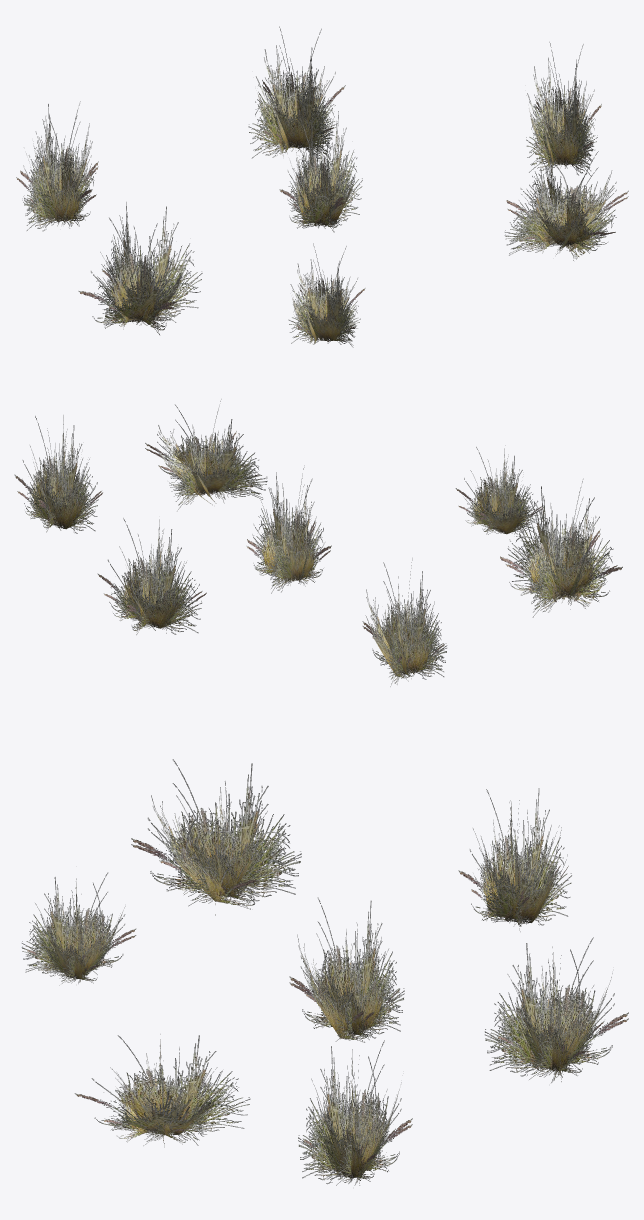
Rendered from ADDON_CANYONPLANT_BUSHES_03_168P.glb.
3 views of the same model, one above another, from view 1: azimuth 30°, elevation 25°; view 2: azimuth 150°, elevation 25°; view 3: azimuth 270°, elevation 25° (orthographic). The views are drawn at different scales.
Visible parts, largest first — view 1: Mesh; view 2: Mesh; view 3: Mesh.
Boxes of the visible parts, x1,y1,x2,y2 form: Mesh: (16, 26, 628, 347); Mesh: (14, 399, 622, 686); Mesh: (21, 759, 628, 1185).
Size of the model in its own units: 12.7 by 2.47 by 9.65.
Materials: 1 (1 with a texture image).
